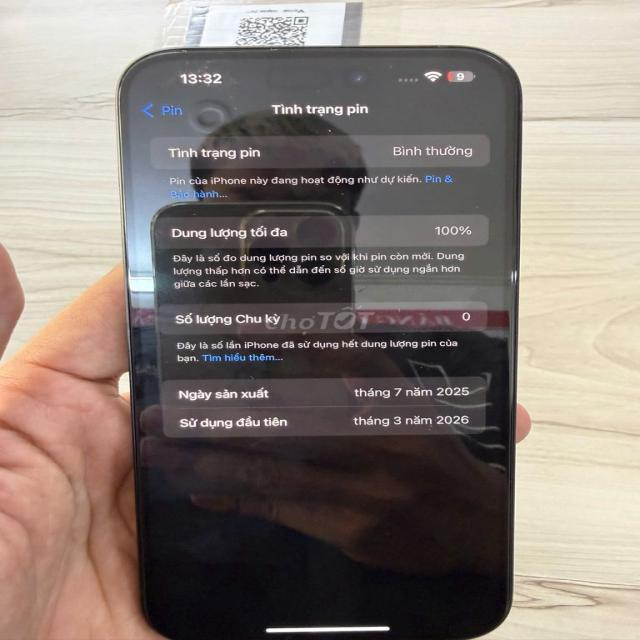gen_15: (80, 28, 529, 640)
